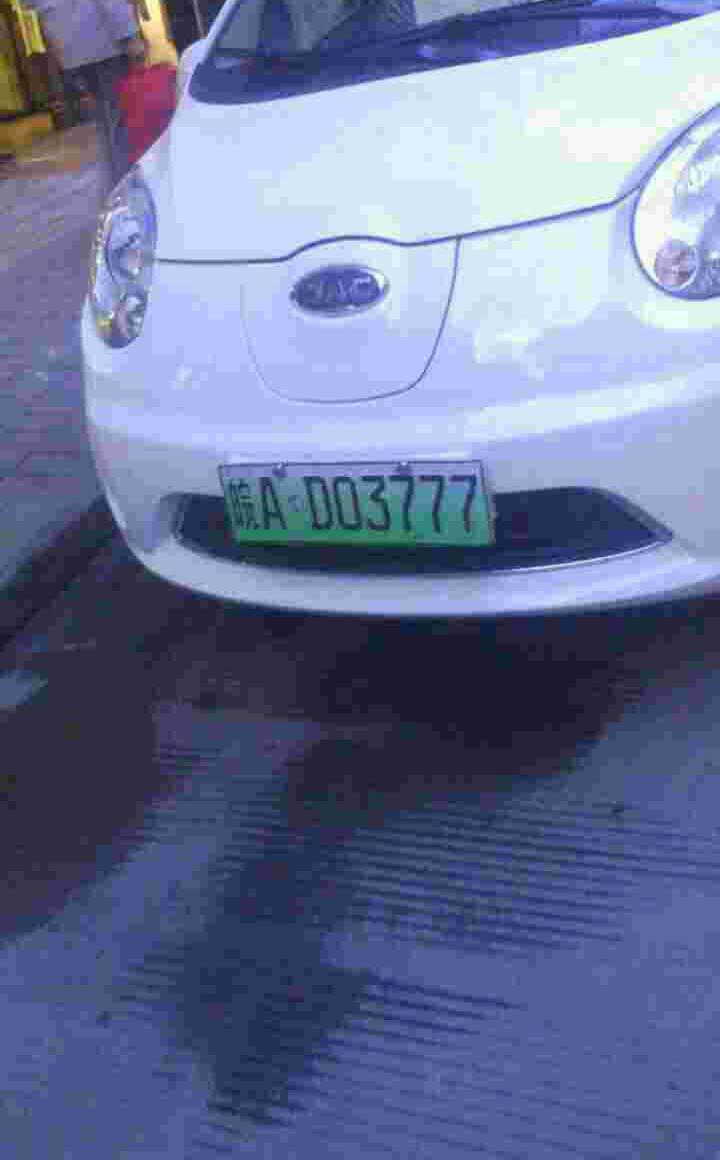car_id: (215, 461, 494, 544)
